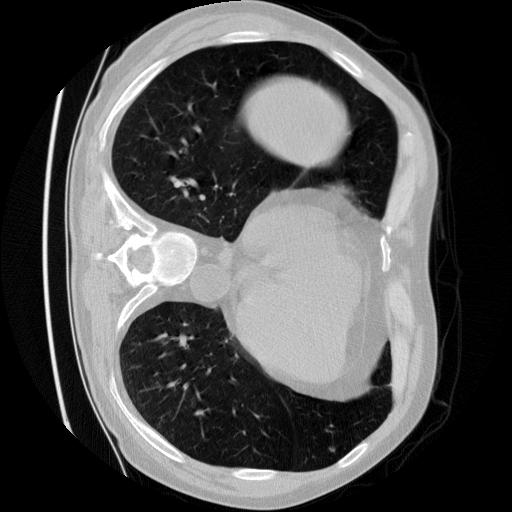nodule: (327, 443, 339, 455)
